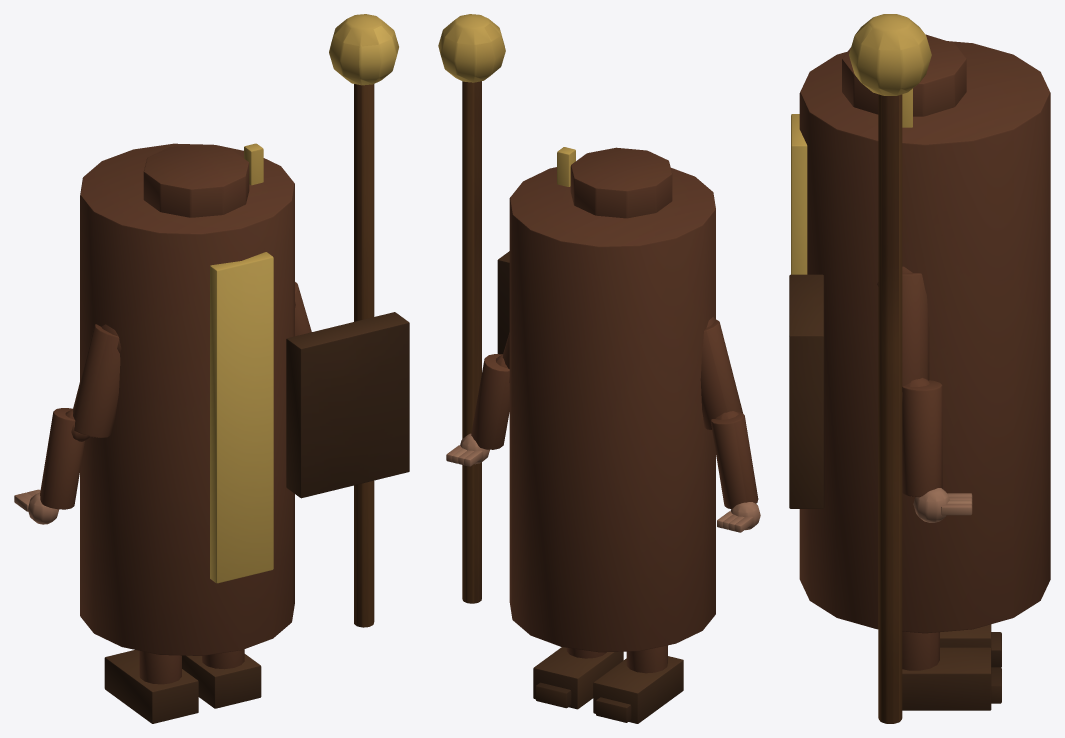
Rendered from unit_university_chancellor.fbx.
The picture shows the model from 3 angles, left to right: view 1: azimuth 30°, elevation 25°; view 2: azimuth 150°, elevation 25°; view 3: azimuth 270°, elevation 25°; orthographic projection. The views are drawn at different scales.
Visible parts, largest first — view 1: unit_university_chancellor; view 2: unit_university_chancellor; view 3: unit_university_chancellor.
Part boxes in pixels (<box>): unit_university_chancellor: <box>14,14,409,723</box>; unit_university_chancellor: <box>438,14,760,723</box>; unit_university_chancellor: <box>789,14,1050,723</box>.
Bounding box in the file's own units: 1.33 × 2.39 × 0.75.
